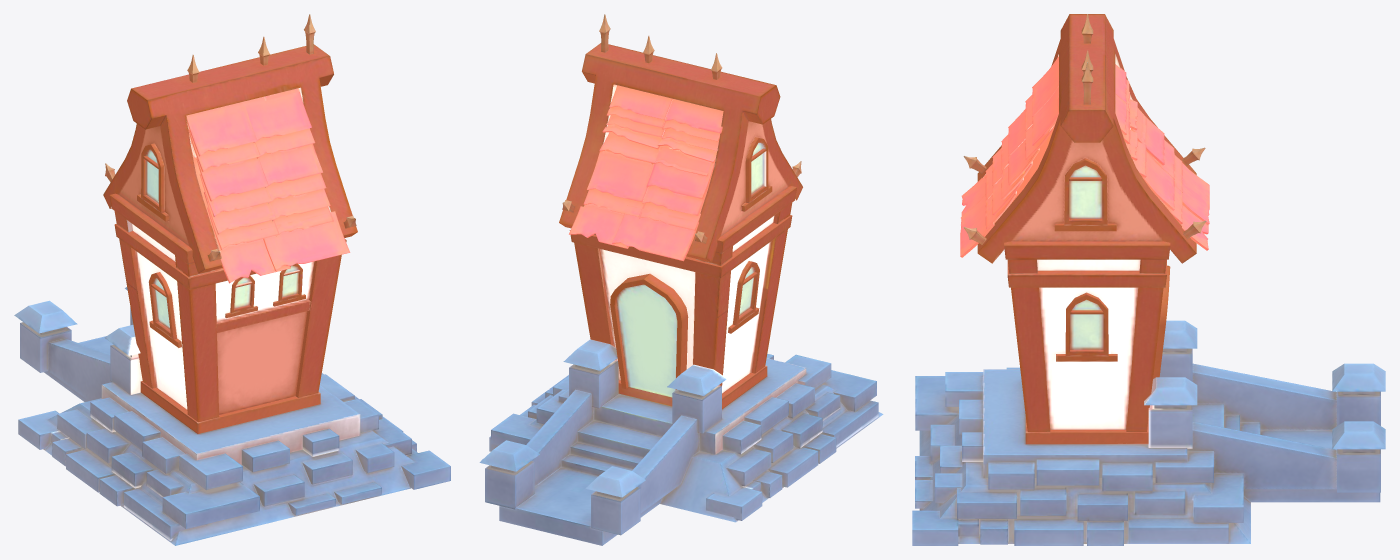
The model's file is rumah npc 1.fbx.
3 renders of one model, left to right at view 1: azimuth 30°, elevation 25°; view 2: azimuth 150°, elevation 25°; view 3: azimuth 270°, elevation 25°, orthographic. The views are drawn at different scales.
Parts seen in each view (by area): view 1: defaultMaterial.097; view 2: defaultMaterial.097; view 3: defaultMaterial.097.
Part boxes in pixels (x1,y1,x2,y2): defaultMaterial.097: (14,14,450,545); defaultMaterial.097: (479,14,883,545); defaultMaterial.097: (912,14,1385,545).
Size of the model in its own units: 137 by 200 by 189.
Materials: 1 (1 with a texture image).
